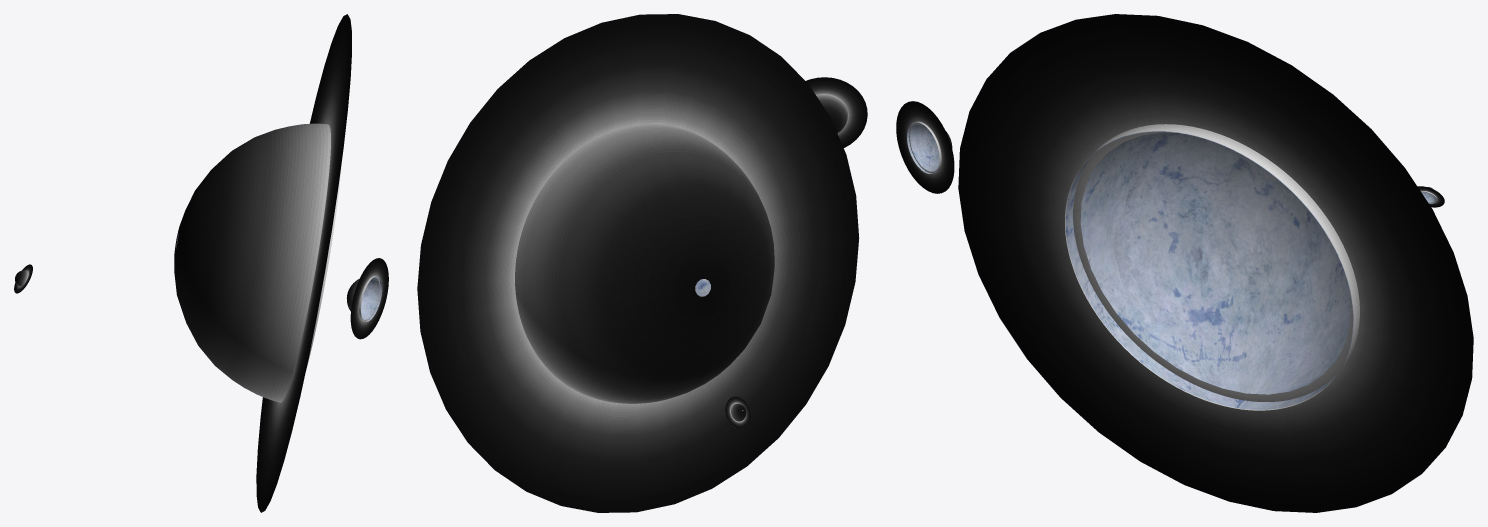
Rendered from env_space_hoth_01_pre.glb.
The picture shows the model from 3 angles, left to right: view 1: azimuth 30°, elevation 25°; view 2: azimuth 150°, elevation 25°; view 3: azimuth 270°, elevation 25°; orthographic projection. The views are drawn at different scales.
Parts seen in each view (by area): view 1: planet_fresnel_mesh, planet_glow_mesh (×2), planet_body_mesh; view 2: planet_glow_mesh (×2), planet_fresnel_mesh (×2); view 3: planet_glow_mesh (×2), planet_body_mesh (×2), planet_fresnel_mesh.
Boxes of the visible parts, bbox=[...] form: planet_fresnel_mesh: bbox=[174, 123, 341, 402]; planet_glow_mesh (×2): bbox=[256, 14, 388, 512]; planet_body_mesh: bbox=[361, 276, 382, 321]; planet_glow_mesh (×2): bbox=[417, 14, 867, 512]; planet_fresnel_mesh (×2): bbox=[515, 94, 847, 403]; planet_glow_mesh (×2): bbox=[896, 14, 1473, 512]; planet_body_mesh (×2): bbox=[907, 122, 1353, 409]; planet_fresnel_mesh: bbox=[1065, 124, 1359, 410].
Bounding box in the file's own units: 639 × 879 × 878.
3 materials, 3 textured.
